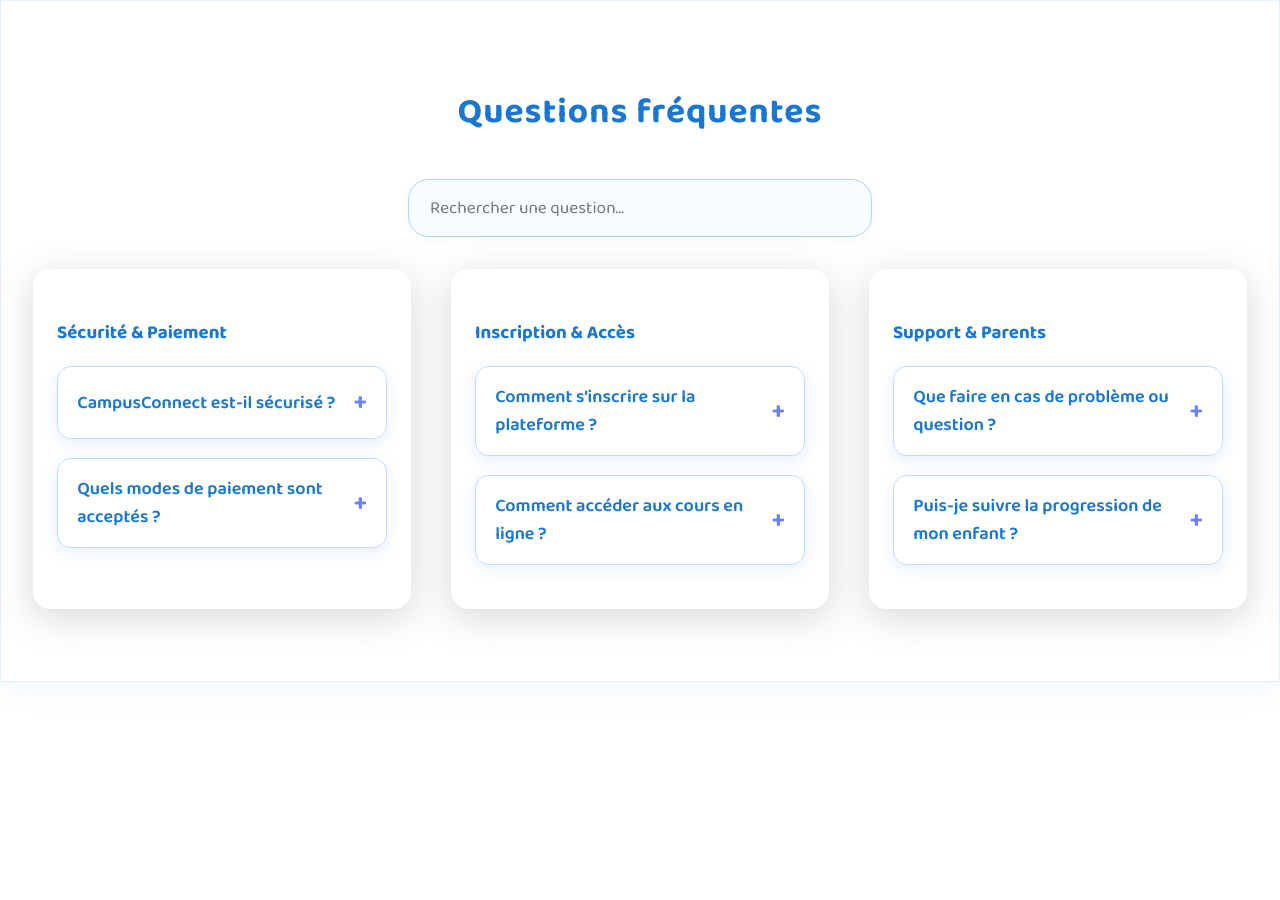
it: FAQSection › filtre les questions via la barre de recherche
The image size is (1280, 900).
Type "aucune" into the field with placeholder "Rechercher une question..." at [640, 208], box [408,179,872,237]
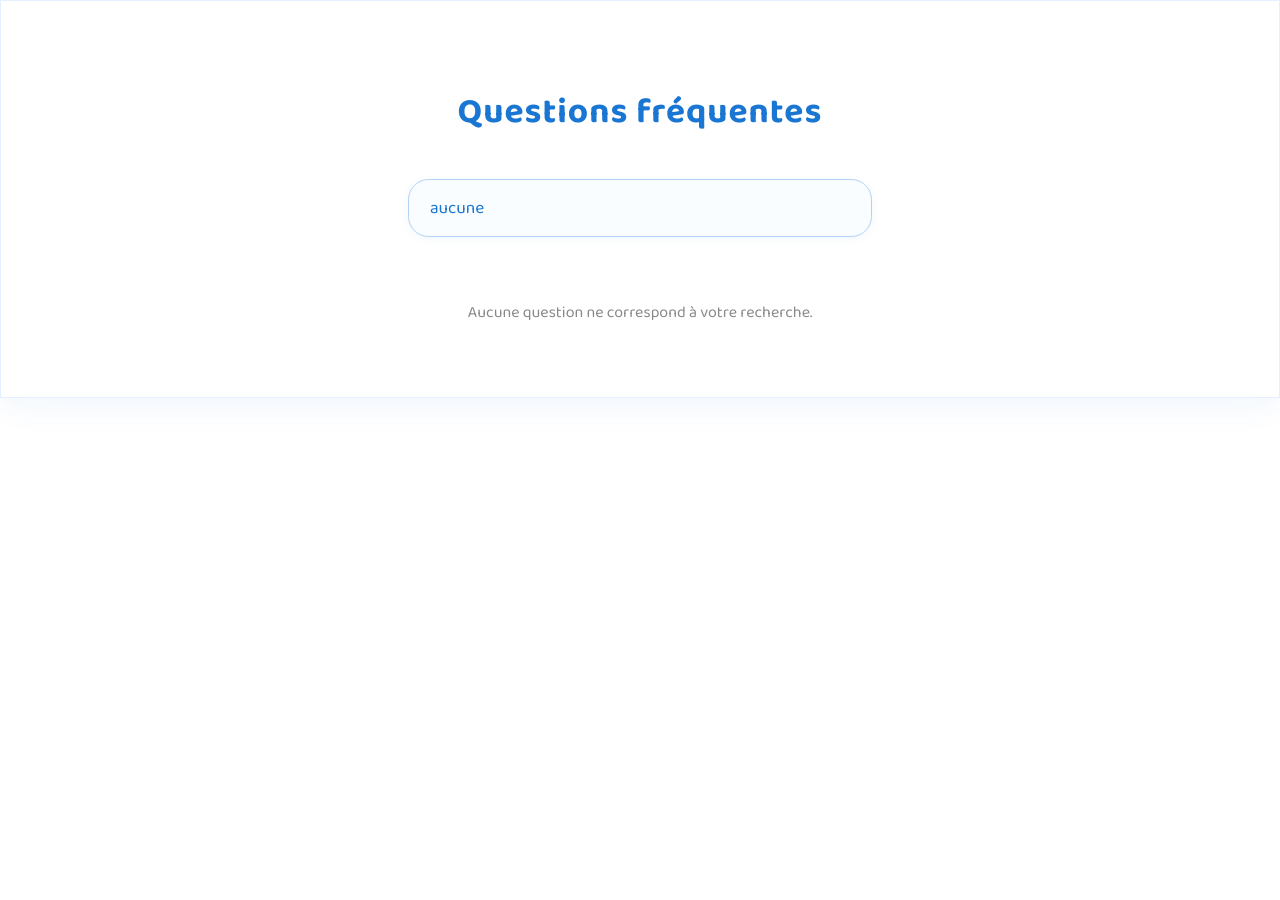
Now the text "Aucune question ne correspond à votre recherche." is shown, box [468,301,812,325]
